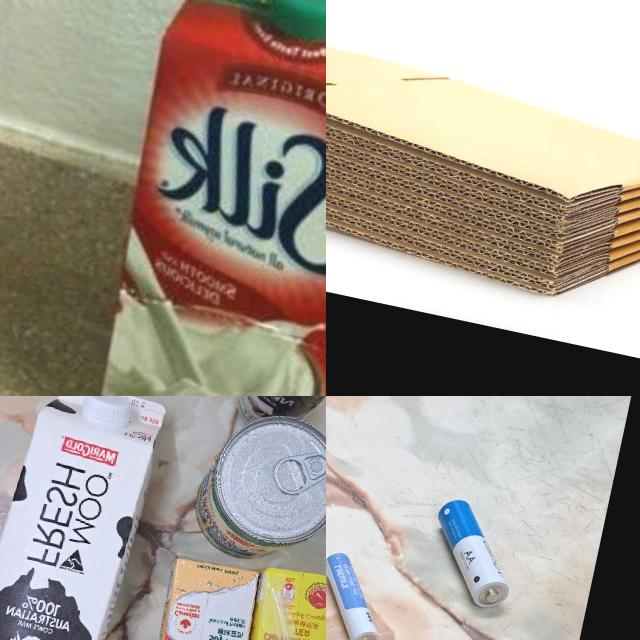aba de lata: (266, 442, 326, 506)
bateria: (418, 494, 527, 613), (326, 546, 395, 640)
caixinha: (57, 0, 326, 396), (0, 396, 170, 640), (131, 551, 268, 640), (221, 561, 326, 640)
garrafa plástica: (74, 396, 138, 432)
lata: (187, 403, 326, 575)
papelão: (326, 4, 640, 327)
tampa plástica: (259, 0, 326, 51)
